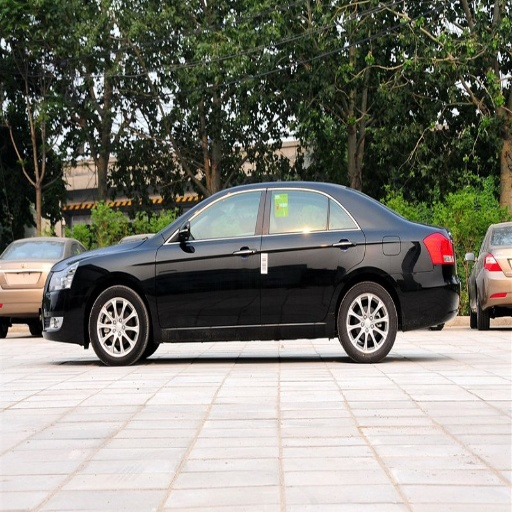back_left_door: (260, 188, 363, 326)
front_left_door: (156, 188, 266, 337)
